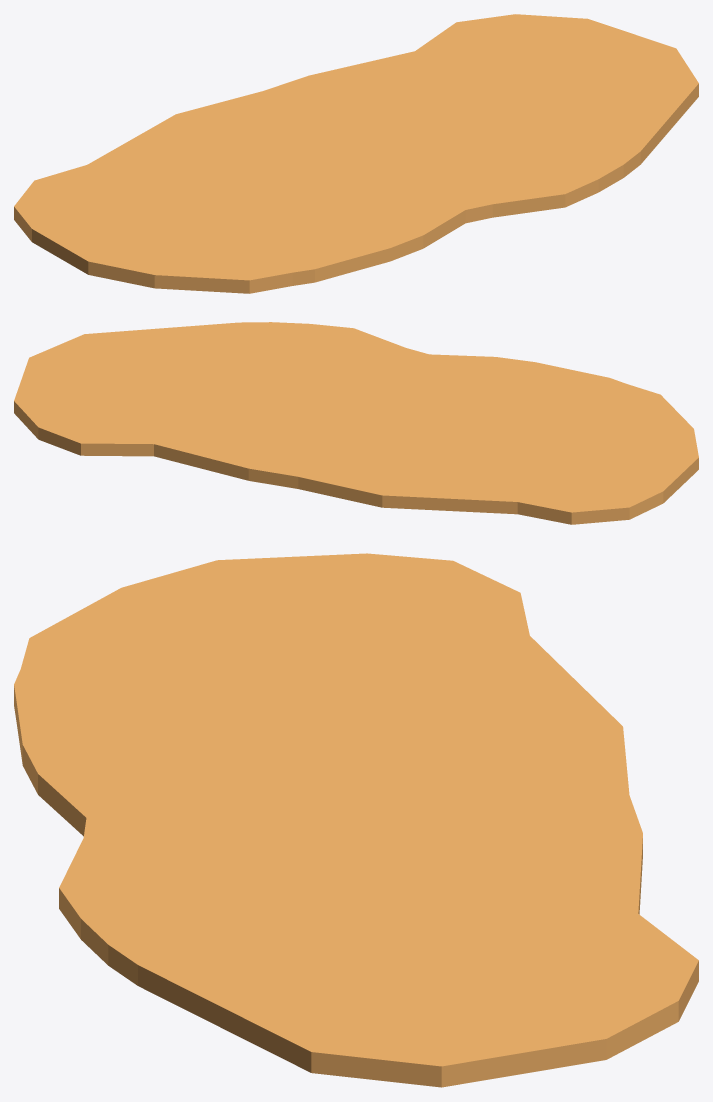
The model's file is Sand 18.FBX.
3 views of the same model, one above another, from view 1: azimuth 30°, elevation 25°; view 2: azimuth 150°, elevation 25°; view 3: azimuth 270°, elevation 25° (orthographic). The views are drawn at different scales.
Parts seen in each view (by area): view 1: Plane001; view 2: Plane001; view 3: Plane001.
Part boxes in pixels (x1=…): Plane001: x1=14, y1=14, x2=698, y2=293; Plane001: x1=14, y1=322, x2=698, y2=524; Plane001: x1=14, y1=553, x2=698, y2=1087.
Bounding box in the file's own units: 114 × 2.18 × 64.4.
